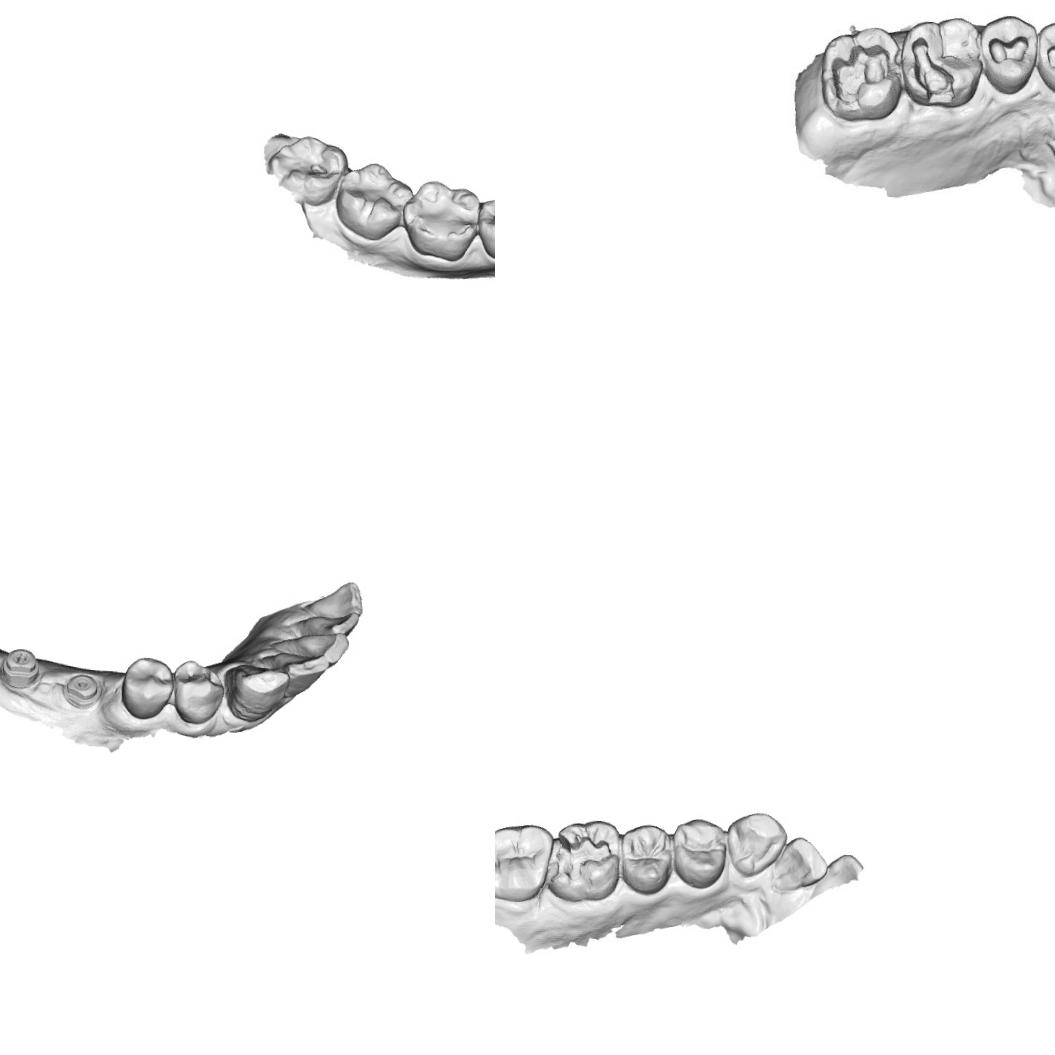canine: (723, 809, 789, 879), (224, 660, 290, 724)
implant: (59, 669, 103, 710)
implant_minus: (0, 645, 41, 690)
incisor: (770, 833, 830, 894), (278, 648, 329, 702), (297, 577, 365, 617), (286, 628, 349, 666), (291, 607, 360, 637)
inlay: (824, 38, 892, 109), (906, 30, 962, 107), (984, 30, 1032, 68), (1043, 38, 1055, 72)
molar: (398, 178, 484, 264), (332, 157, 415, 244), (544, 816, 622, 903), (266, 131, 350, 208), (495, 819, 553, 903)
premolar: (669, 813, 729, 891), (616, 820, 674, 897), (117, 653, 176, 723), (170, 656, 226, 726), (473, 194, 495, 262)
